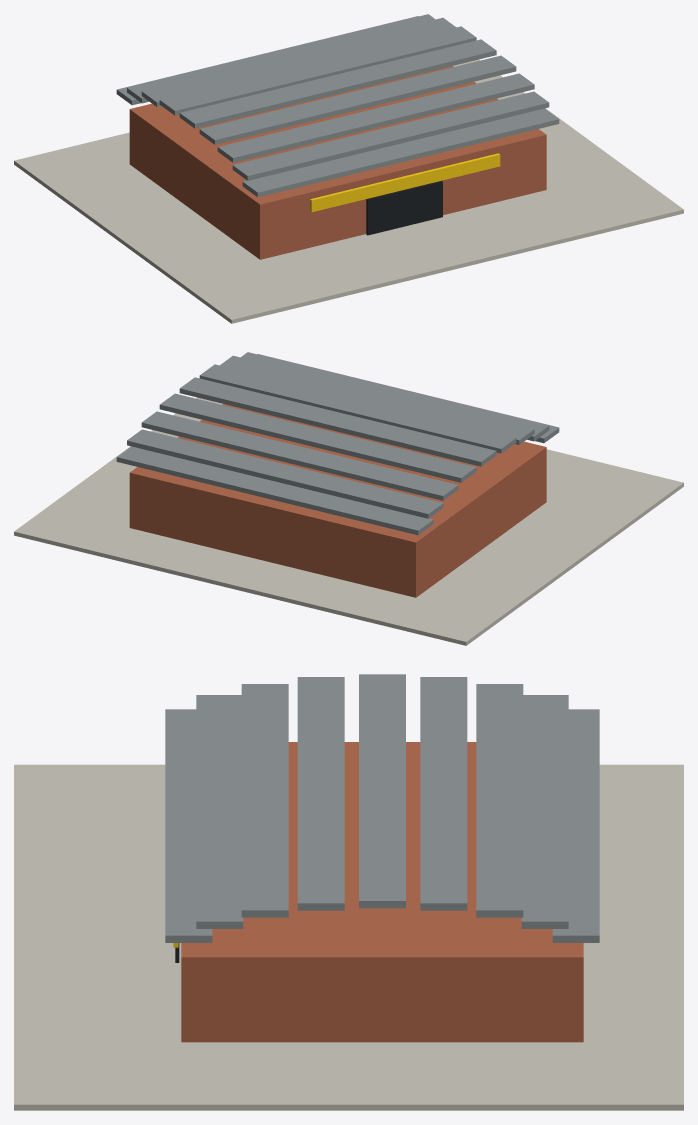
File: bukom.glb
3 renders of one model, top to bottom at view 1: azimuth 30°, elevation 25°; view 2: azimuth 150°, elevation 25°; view 3: azimuth 270°, elevation 25°, orthographic. The views are drawn at different scales.
Parts seen in each view (by area): view 1: bukom_concrete, bukom_zinc, bukom_brick, bukom_black, bukom_flag_gold; view 2: bukom_zinc, bukom_concrete, bukom_brick; view 3: bukom_concrete, bukom_zinc, bukom_brick.
Boxes of the visible parts, x1,y1,x2,y2 form: bukom_concrete: (14, 59, 683, 323); bukom_zinc: (116, 14, 559, 197); bukom_brick: (129, 66, 546, 259); bukom_black: (366, 180, 442, 235); bukom_flag_gold: (310, 153, 500, 212); bukom_zinc: (116, 352, 559, 535); bukom_concrete: (14, 397, 683, 645); bukom_brick: (129, 404, 546, 597); bukom_concrete: (14, 764, 683, 1110); bukom_zinc: (165, 674, 599, 942); bukom_brick: (181, 742, 583, 1042).
Bounding box in the file's own units: 120 × 25.2 × 100.
